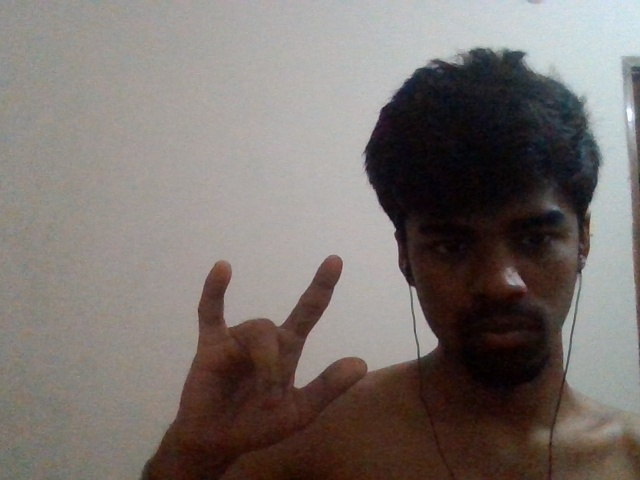ILoveYou: (169, 248, 377, 463)
